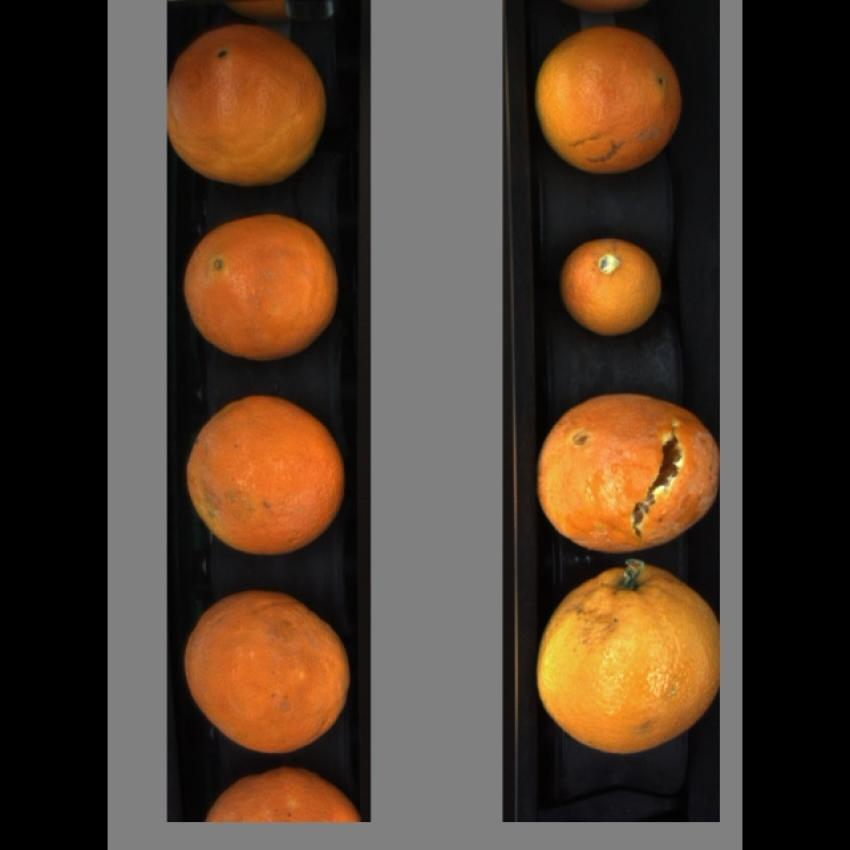Mal estado: (537, 560, 720, 761), (535, 384, 719, 560), (177, 384, 354, 563), (181, 593, 365, 756), (168, 18, 334, 188), (523, 22, 688, 184), (179, 205, 342, 362), (558, 233, 666, 342), (203, 768, 362, 822)
